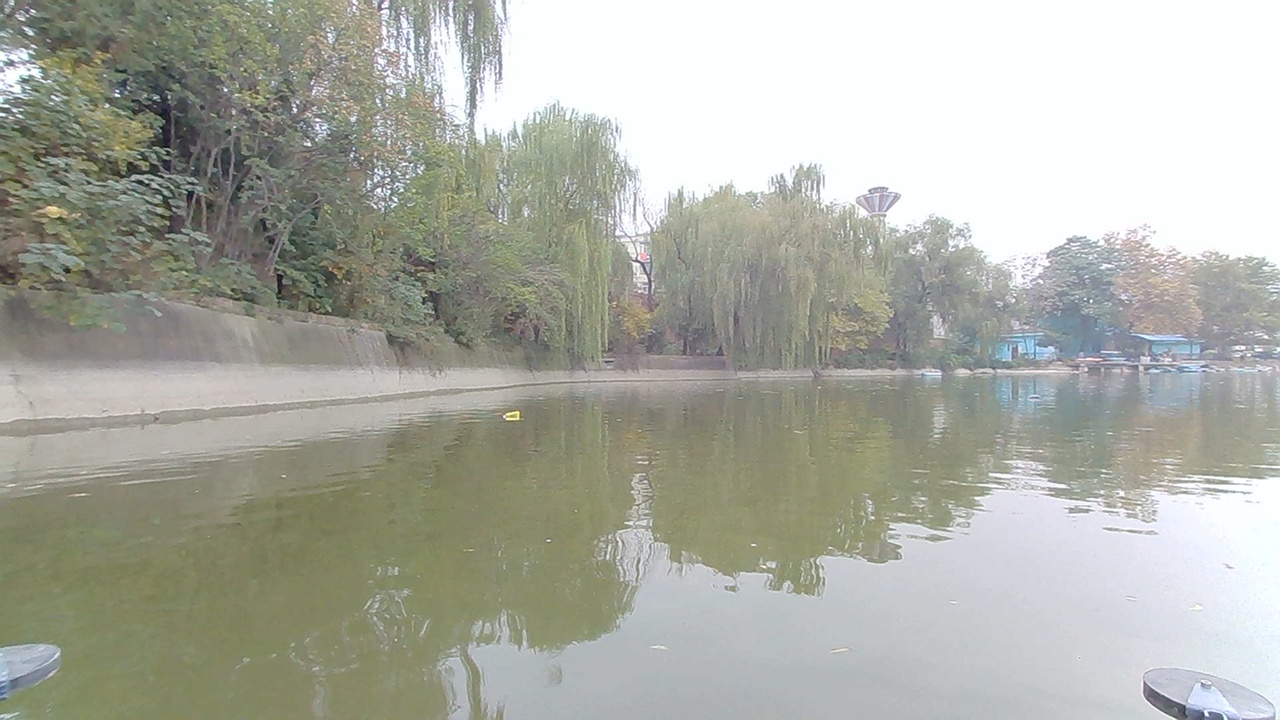bottle: (497, 405, 531, 428), (1019, 388, 1048, 403)
